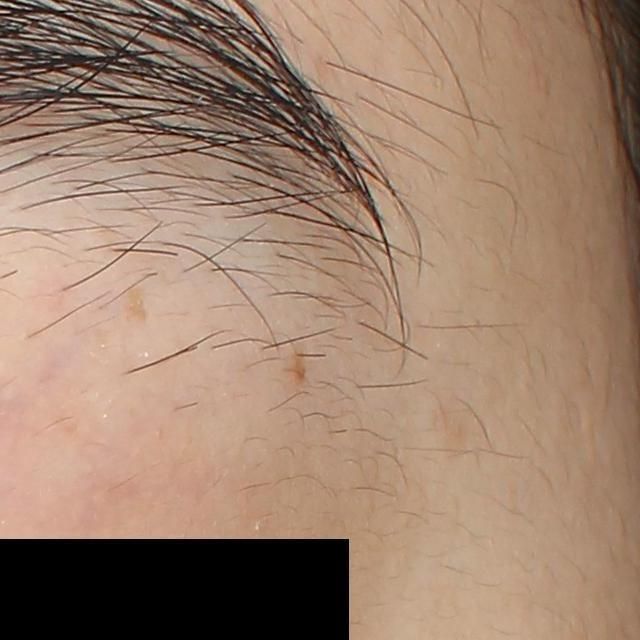melasma: (118, 283, 153, 327), (289, 345, 310, 388)
